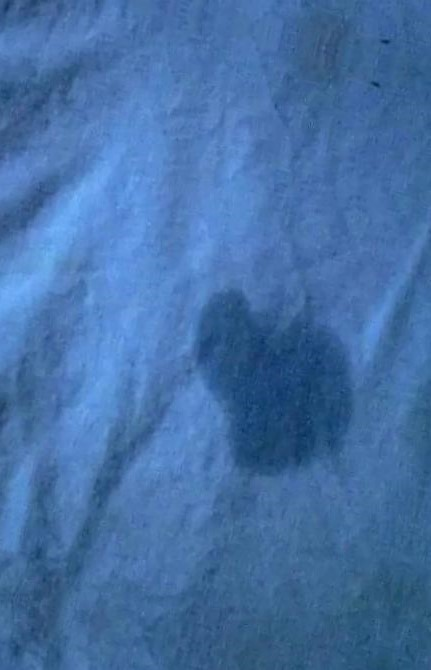stain: (181, 275, 367, 482)
